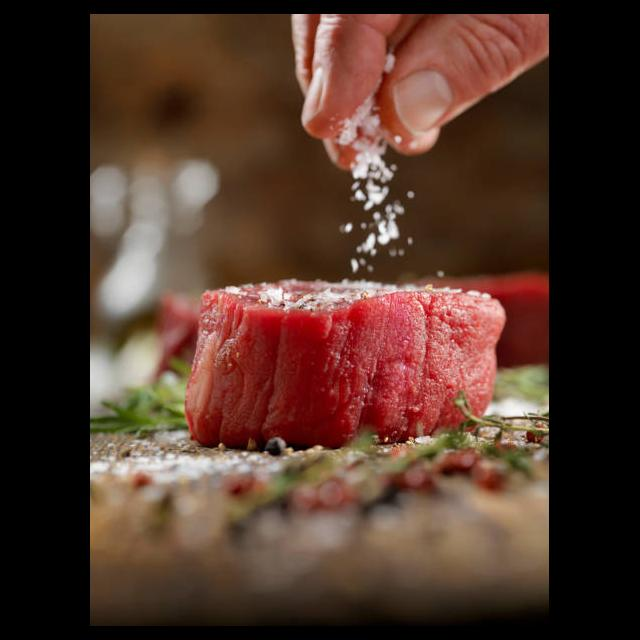beef: (181, 273, 510, 445)
